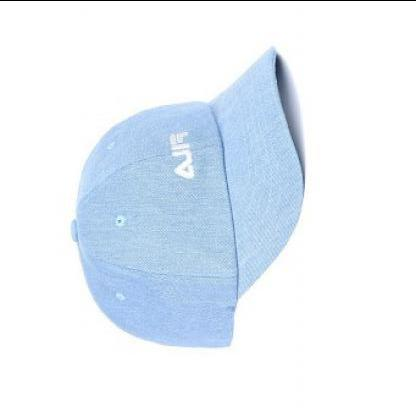cap: (64, 43, 318, 361)
